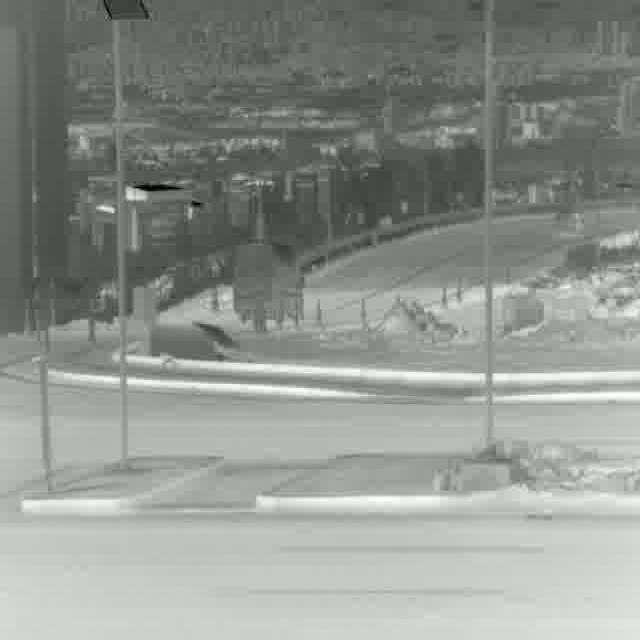Car: (233, 243, 305, 326), (553, 204, 585, 241)
